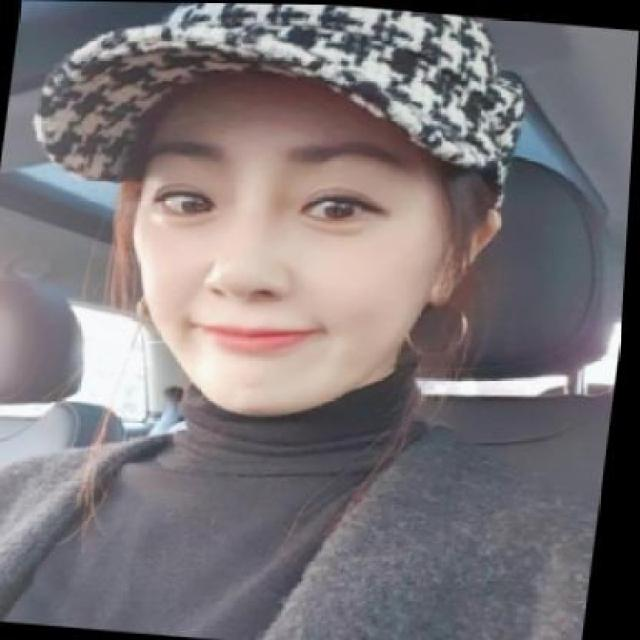hat: (29, 0, 536, 215)
